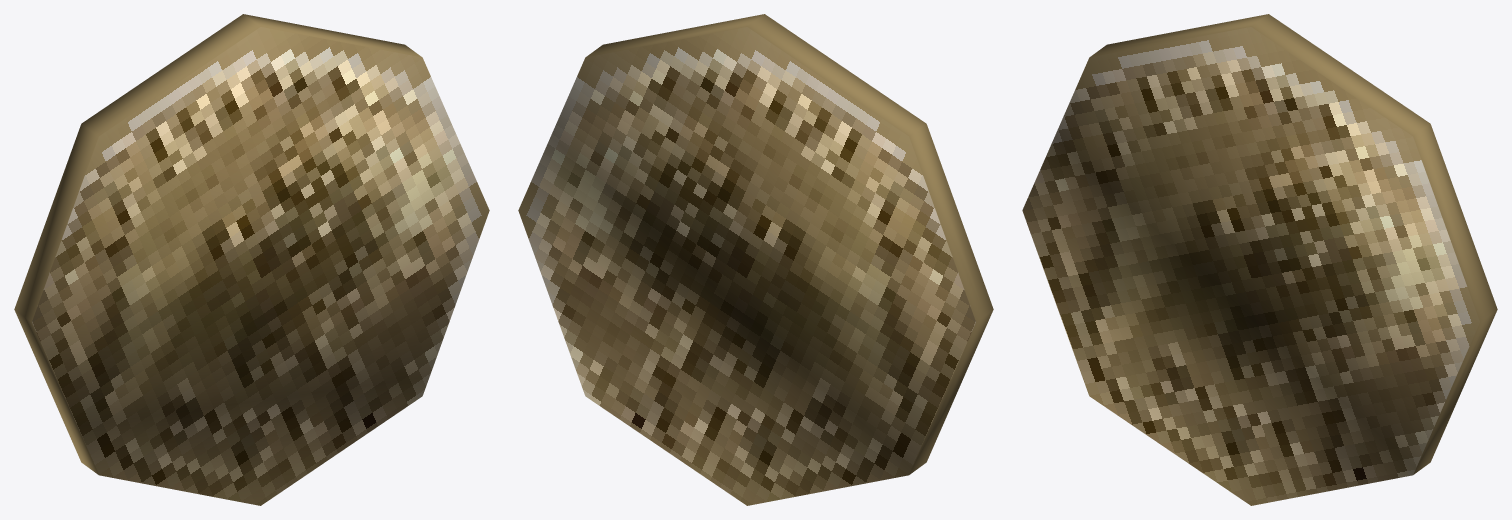
The model's file is aventine_coins_quinarius_aureus.glb.
The picture shows the model from 3 angles, left to right: view 1: azimuth 30°, elevation 25°; view 2: azimuth 150°, elevation 25°; view 3: azimuth 330°, elevation 25°; orthographic projection.
Parts seen in each view (by area): view 1: coin_06_quinarius_aureus; view 2: coin_06_quinarius_aureus; view 3: coin_06_quinarius_aureus.
Boxes of the visible parts, x1,y1,x2,y2 form: coin_06_quinarius_aureus: [14, 14, 489, 505]; coin_06_quinarius_aureus: [518, 14, 993, 505]; coin_06_quinarius_aureus: [1022, 14, 1497, 505].
Bounding box in the file's own units: 0.2628 × 0.2628 × 0.0174.
Materials: 1 (1 with a texture image).
